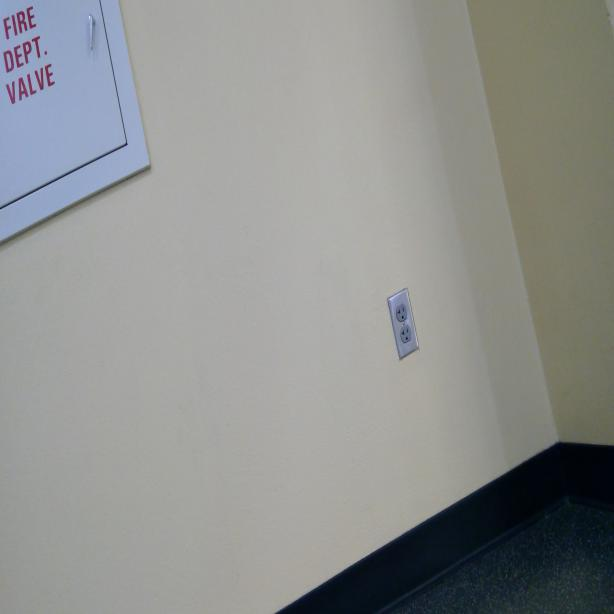typeb: (400, 325, 411, 345), (396, 304, 407, 321)
